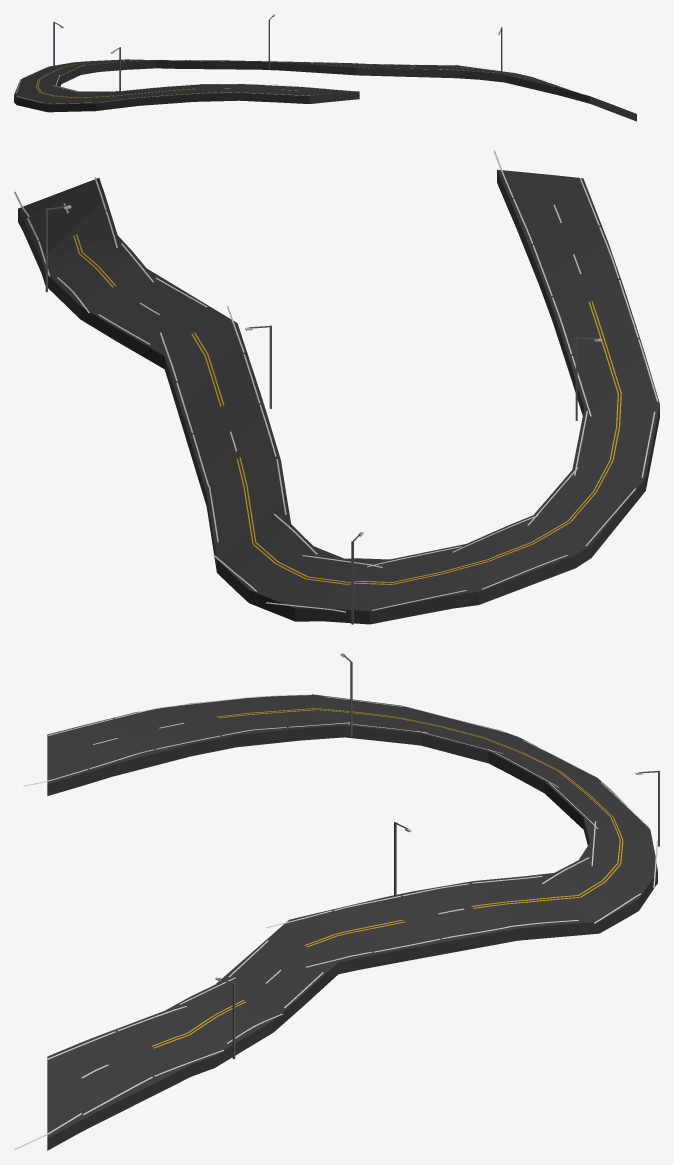
Rendered from 17-109461-59475.ae9cdb2c.glb.
3 renders of one model, top to bottom at view 1: azimuth 30°, elevation 25°; view 2: azimuth 150°, elevation 25°; view 3: azimuth 270°, elevation 25°, orthographic. The views are drawn at different scales.
Bounding box in the file's own units: 80.23 × 17.35 × 58.39.
